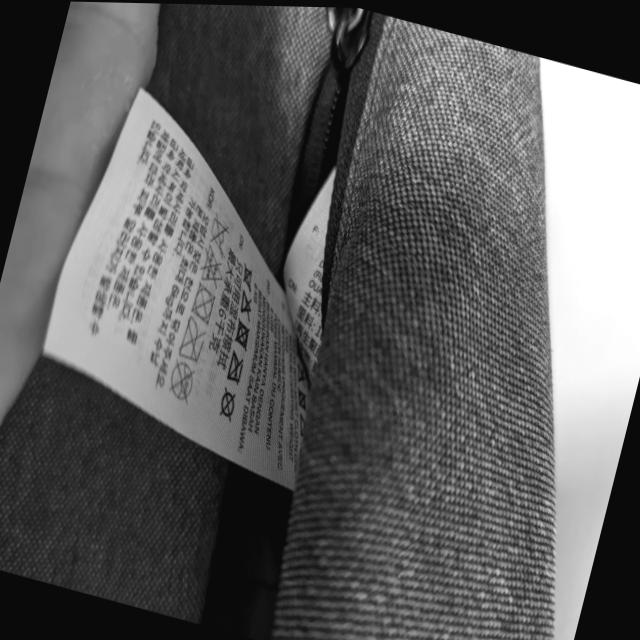DN_bleach: (200, 249, 226, 284), (241, 292, 253, 315)
DN_dry_clean: (170, 363, 201, 403), (215, 389, 240, 423)
DN_iron: (178, 319, 208, 363), (227, 351, 246, 386)
DN_tumble_dry: (193, 283, 218, 325), (235, 320, 252, 349)
DN_wash: (209, 220, 232, 253)
